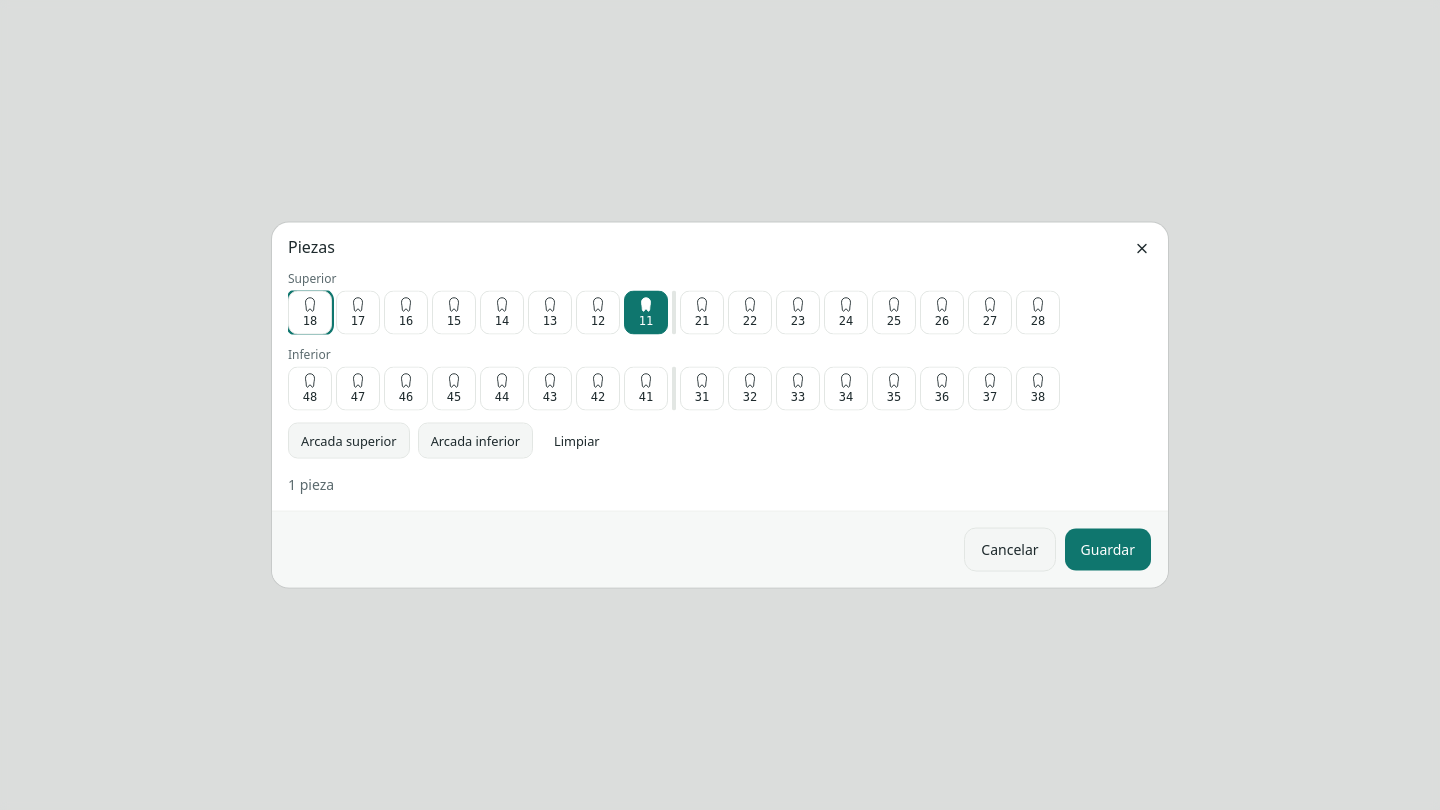
Test case: TeethDialog › el contador pasa a plural al agregar una pieza
Click the button "12". click: [598, 312]
box: x1=576 y1=290 x2=620 y2=334
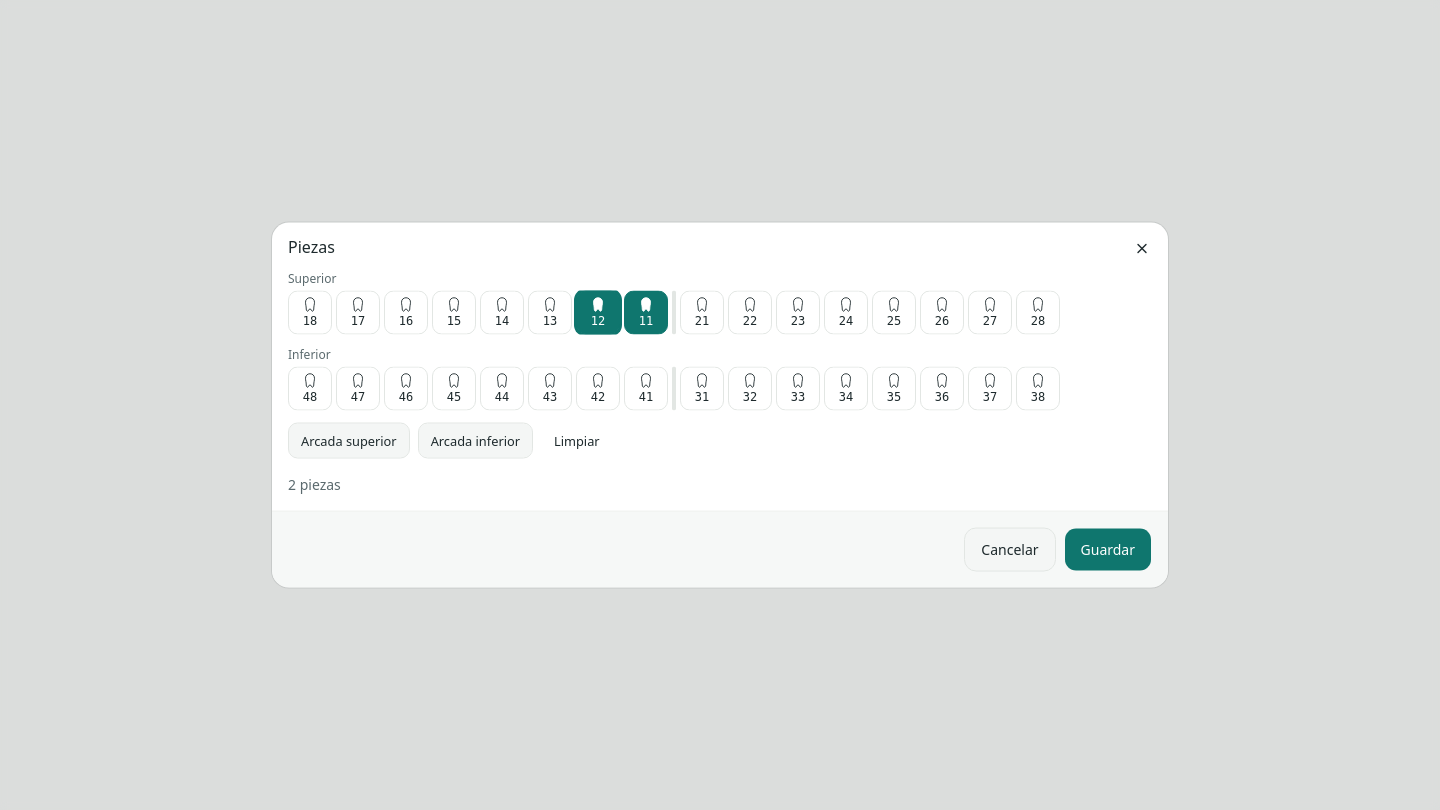
Check: the text "2 piezas" is shown, box x1=288 y1=474 x2=341 y2=494
